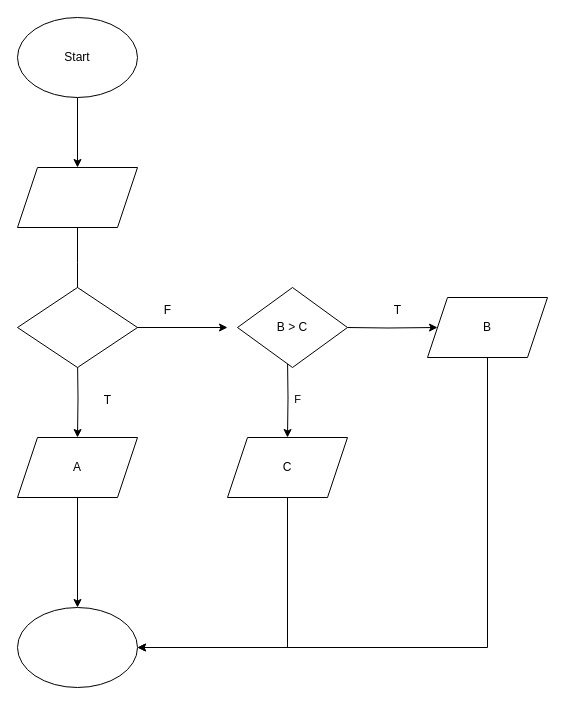
The diagram is 565 pixels wide and 705 high, and some of its shapes have lost their labels. Here are the shapes that lost their labels. From the top down, the centre of each, then its label:
At [77,197]: "A, B, C".
At [77,327]: "A > B > C".
At [77,647]: "End.".
